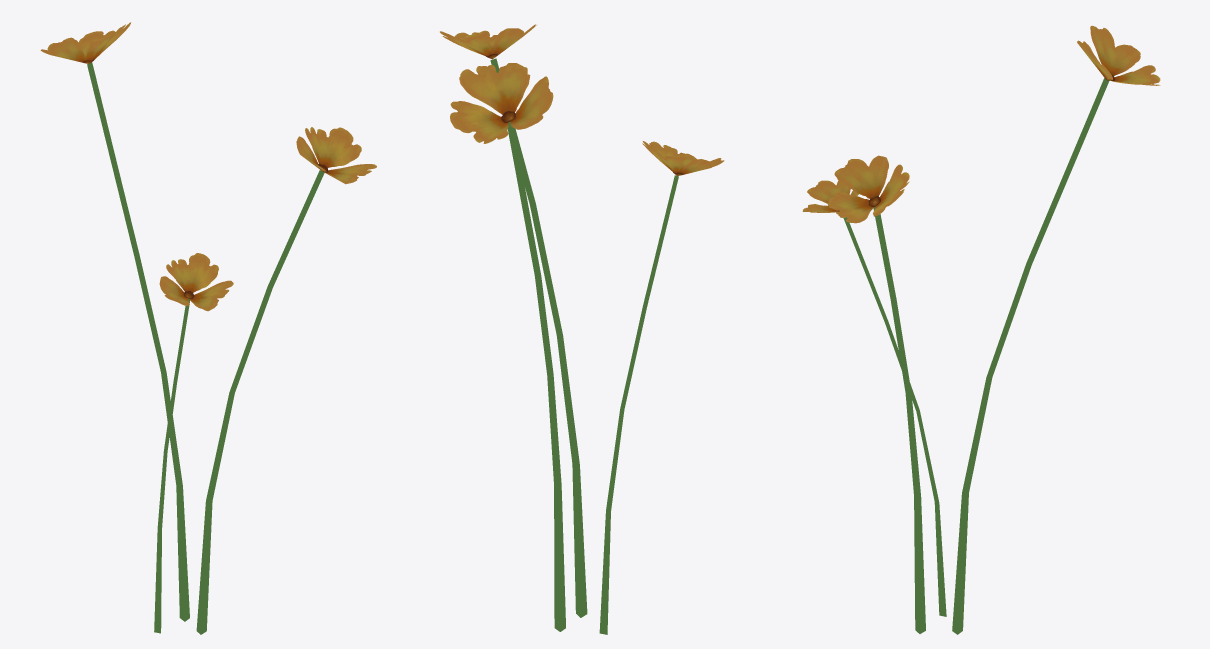
The model's file is SM_Flower_07_01.fbx.
The picture shows the model from 3 angles, left to right: view 1: azimuth 30°, elevation 25°; view 2: azimuth 150°, elevation 25°; view 3: azimuth 270°, elevation 25°; orthographic projection. The views are drawn at different scales.
Visible parts, largest first — view 1: SM_Flower_07_01_LOD0; view 2: SM_Flower_07_01_LOD0; view 3: SM_Flower_07_01_LOD0.
Boxes of the visible parts, <box> form: SM_Flower_07_01_LOD0: <box>40,22,376,634</box>; SM_Flower_07_01_LOD0: <box>440,24,724,634</box>; SM_Flower_07_01_LOD0: <box>802,25,1160,634</box>.
Size of what is drawn, in the model's own units: 28.66 by 58.5 by 37.04.
